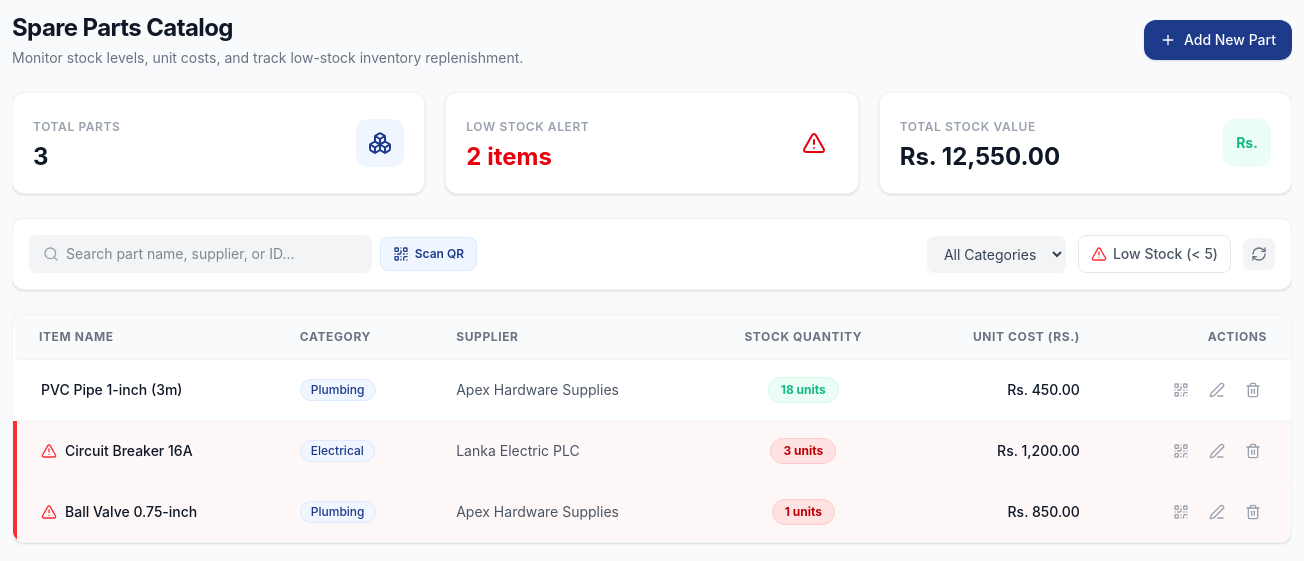
InventoryDashboard - UI & Low-Stock Alert Suite › displays empty state message when search query yields no matching parts
This screenshot has width=1304, height=561.
Check: the text "PVC Pipe 1-inch (3m)" is shown, box [41,380,182,400]
Type "NonExistentPartXYZ" into the field with placeholder "Search part name, supplier, or ID...". click: (200, 254)
box: [29,235,372,273]
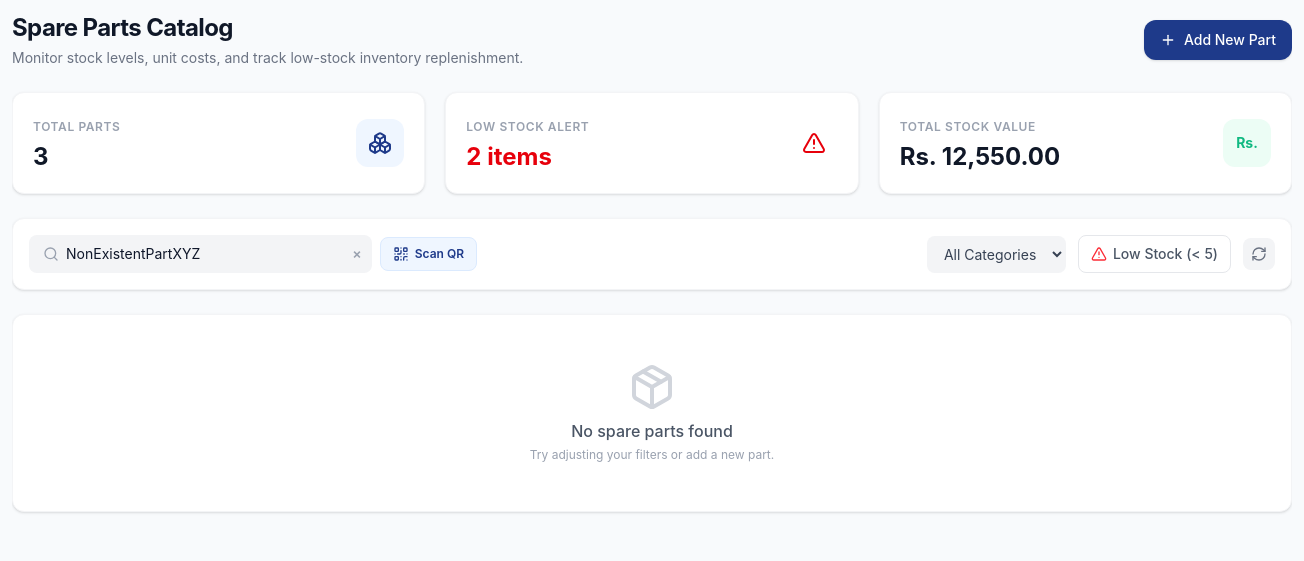
Check: the text "No spare parts found" is shown, box [571,421,733,441]
Check: the text "Try adjusting your filters or add a new part." is shown, box [530,447,774,462]
